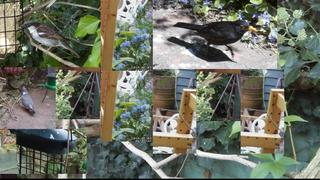blackbird: (173, 20, 257, 61)
sparrow: (20, 20, 81, 58)
wood pigeon: (21, 87, 36, 114)
